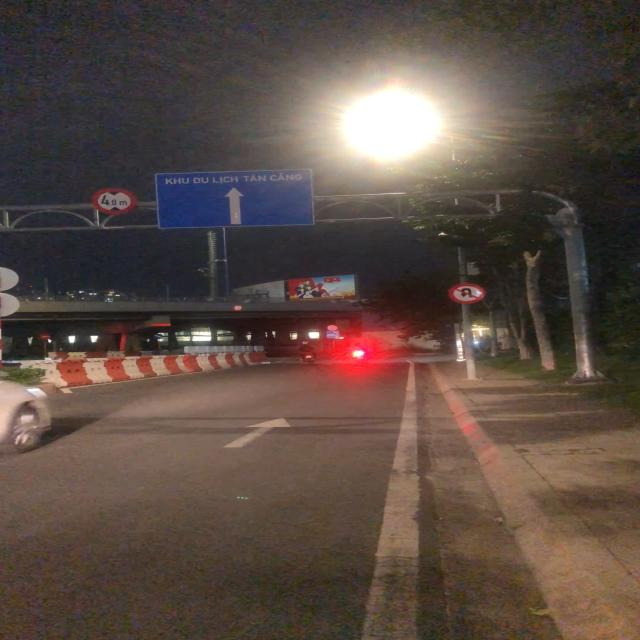Bien bao cam quay dau xe: (446, 282, 484, 304)
Bien bao han che chieu cao: (92, 186, 142, 217)
